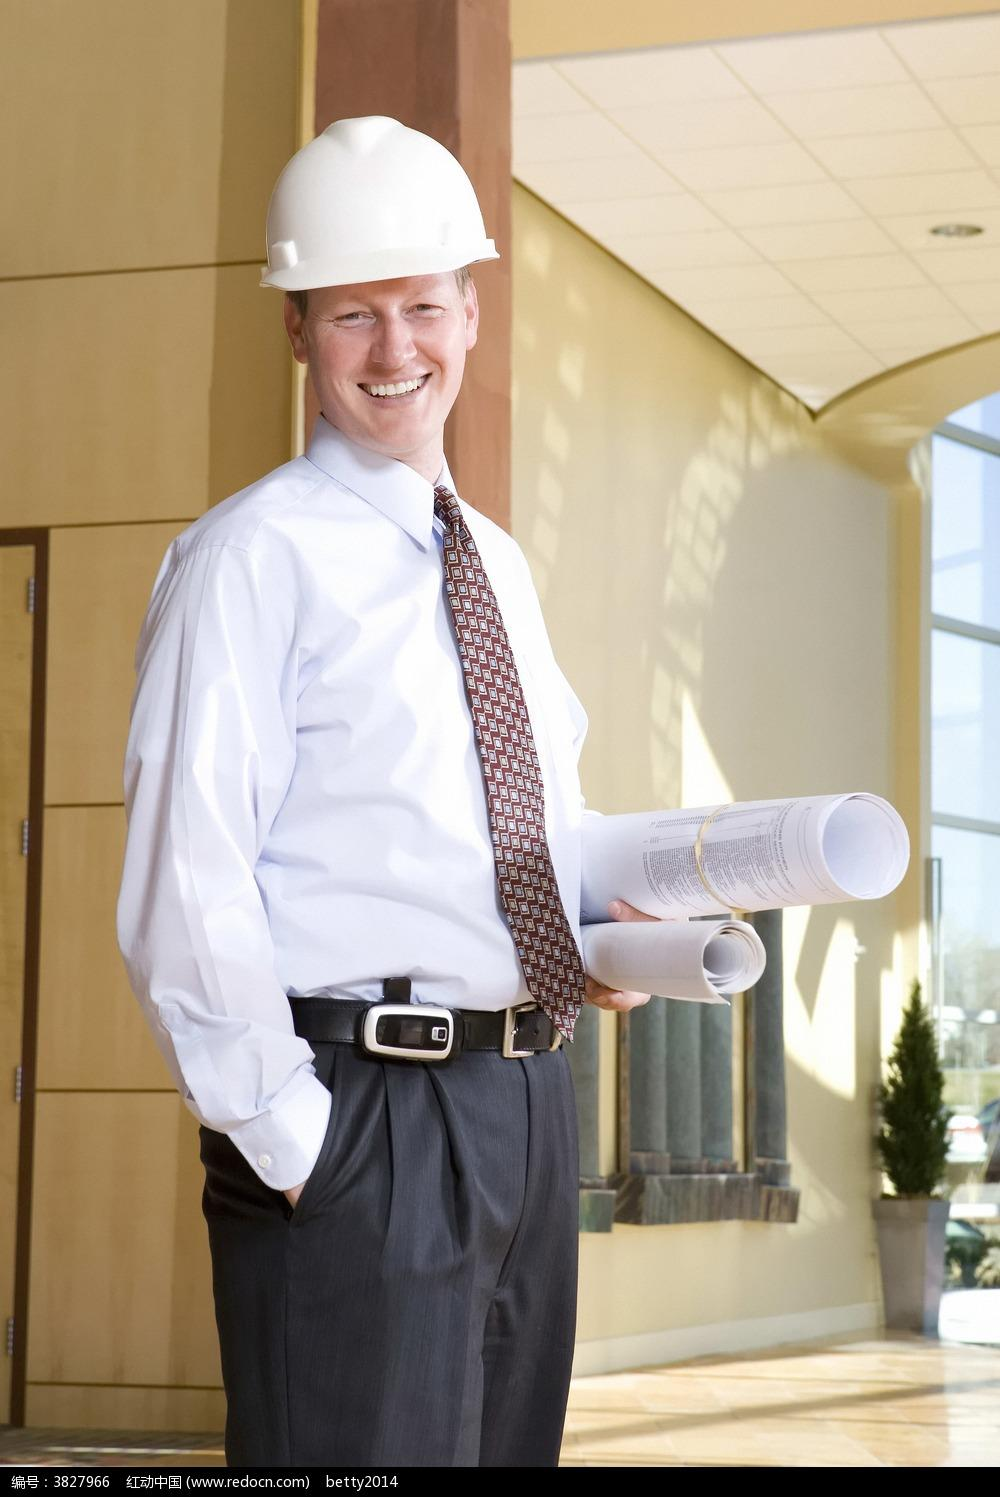helmet: (261, 99, 489, 306)
